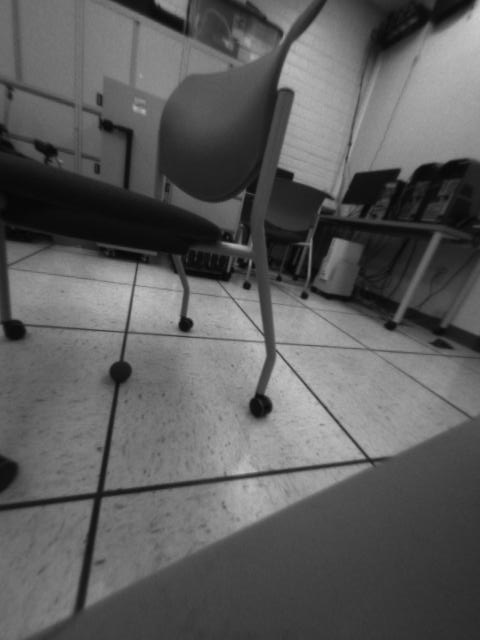dogtoy: (104, 358, 140, 388)
